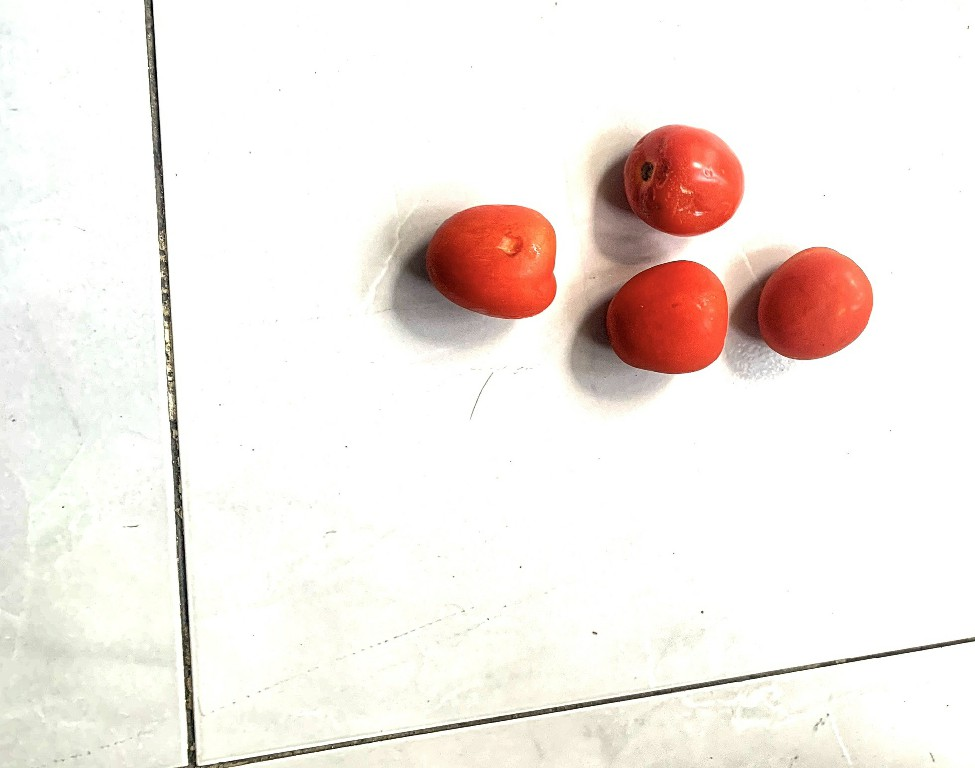NG: (423, 200, 561, 320), (619, 121, 751, 236)
OK: (598, 260, 729, 386), (755, 239, 871, 363)
